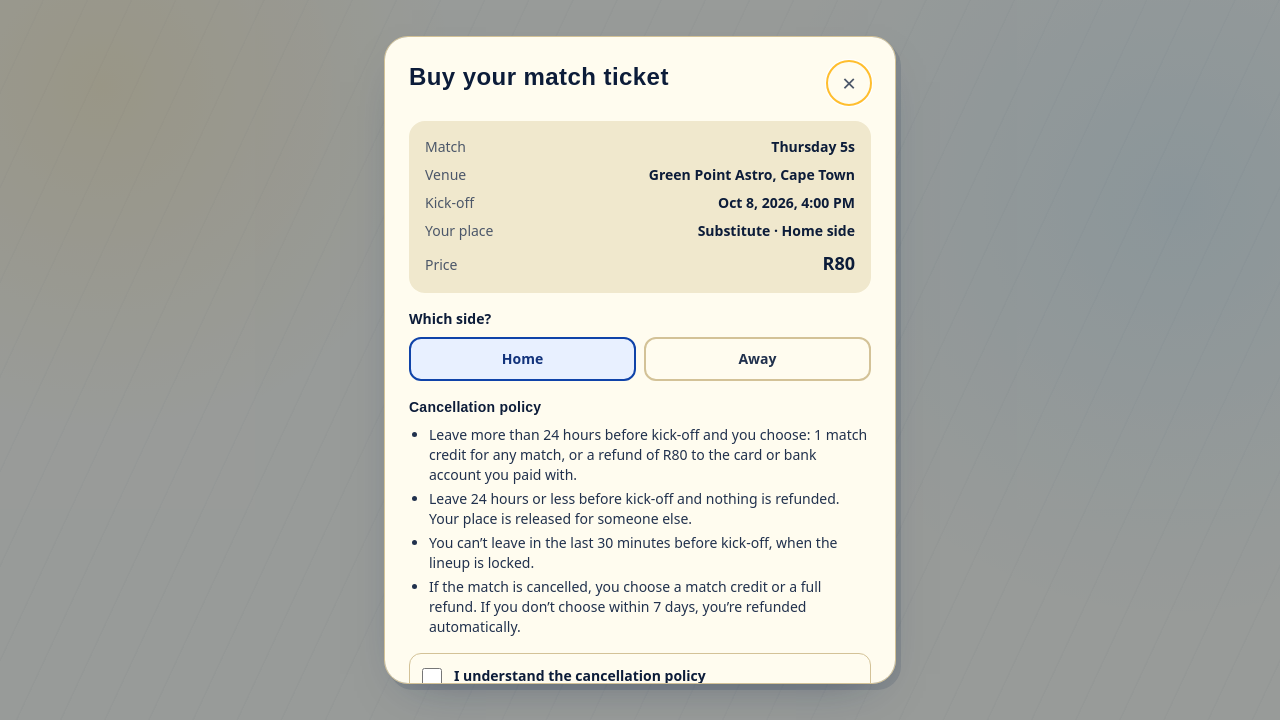
Scenario: TicketConfirmSheet (DEC-021 A1.1) › a disputed payment blocks buying, with the reason (D9)
The image size is (1280, 720).
Click the checkbox labelled "I understand the cancellation policy". click: (432,678)
box: 422,668 -> 442,688
(page scrolled)
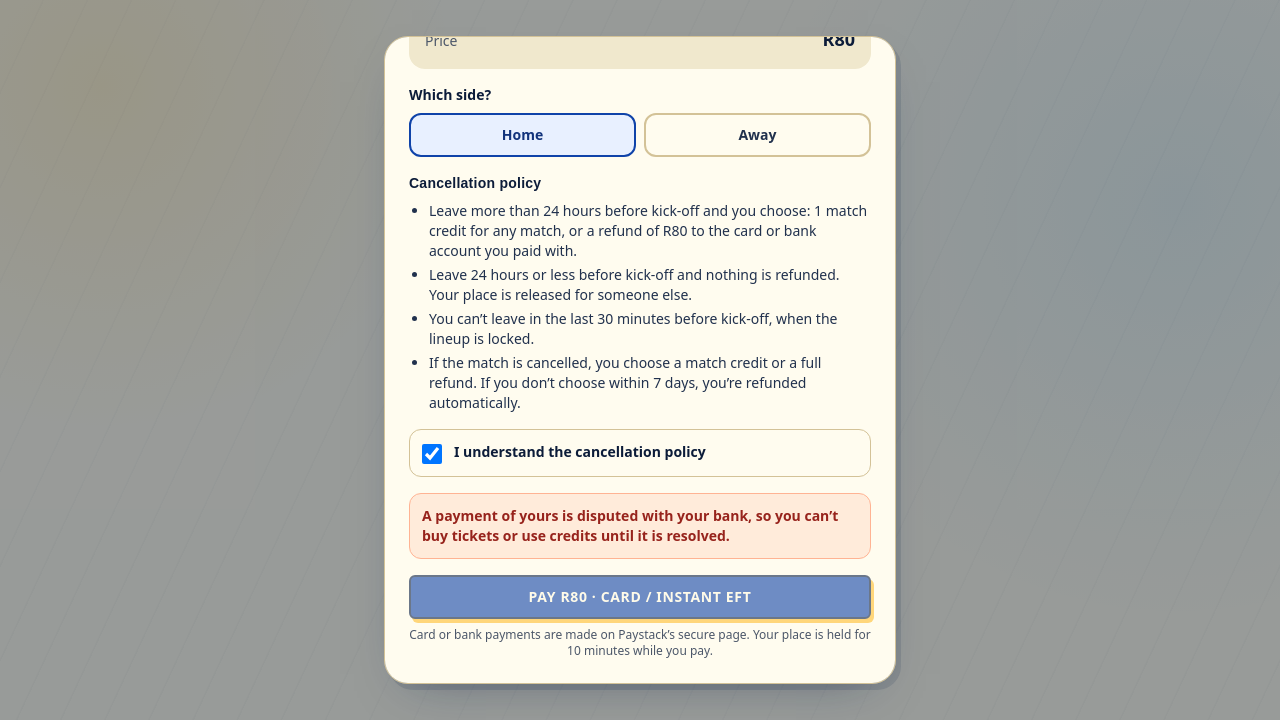
Result: the message shows "disputed with your bank" at 422,506 -> 838,545
Result: the button "Pay R80 · Card / Instant EFT" is disabled at 409,575 -> 871,619
